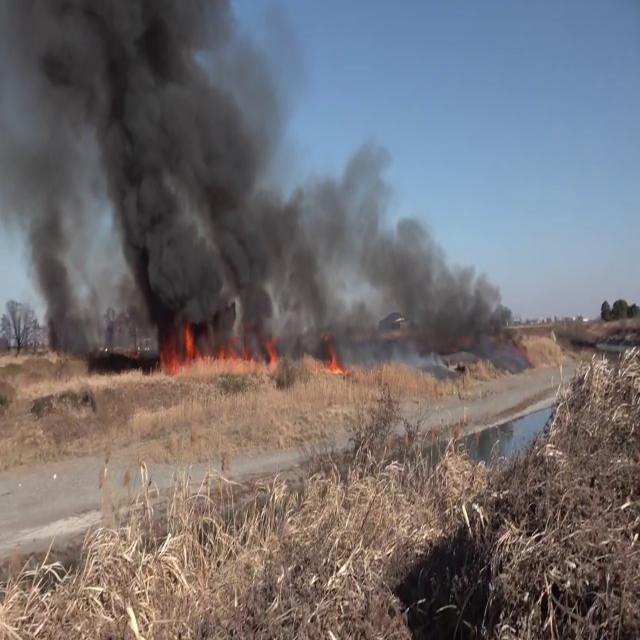Fire: (157, 318, 277, 377)
Smoke: (0, 0, 300, 349), (269, 136, 527, 358)
